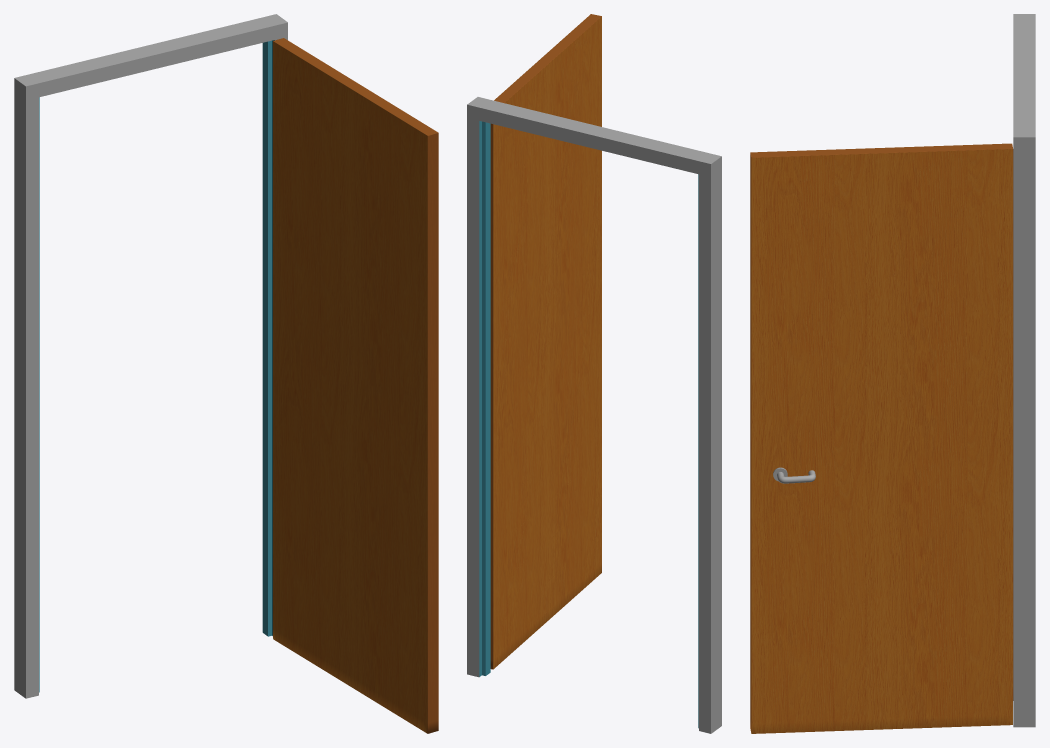
File: HearthDoor_Reference.fbx
3 views of the same model, side by side, from view 1: azimuth 30°, elevation 25°; view 2: azimuth 150°, elevation 25°; view 3: azimuth 270°, elevation 25° (orthographic). The views are drawn at different scales.
Visible parts, largest first — view 1: GEO_HearthDoor, GEO_HearthDoorEntry1; view 2: GEO_HearthDoor, GEO_HearthDoorEntry1; view 3: GEO_HearthDoor, GEO_HearthDoorEntry1.
Part boxes in pixels (bbox=[...]): GEO_HearthDoor: bbox=[273, 38, 438, 733]; GEO_HearthDoorEntry1: bbox=[14, 14, 287, 698]; GEO_HearthDoor: bbox=[490, 14, 601, 669]; GEO_HearthDoorEntry1: bbox=[467, 97, 721, 733]; GEO_HearthDoor: bbox=[750, 143, 1013, 733]; GEO_HearthDoorEntry1: bbox=[1013, 14, 1035, 727].
Bounding box in the file's own units: 5.98 × 12.03 × 5.28.
